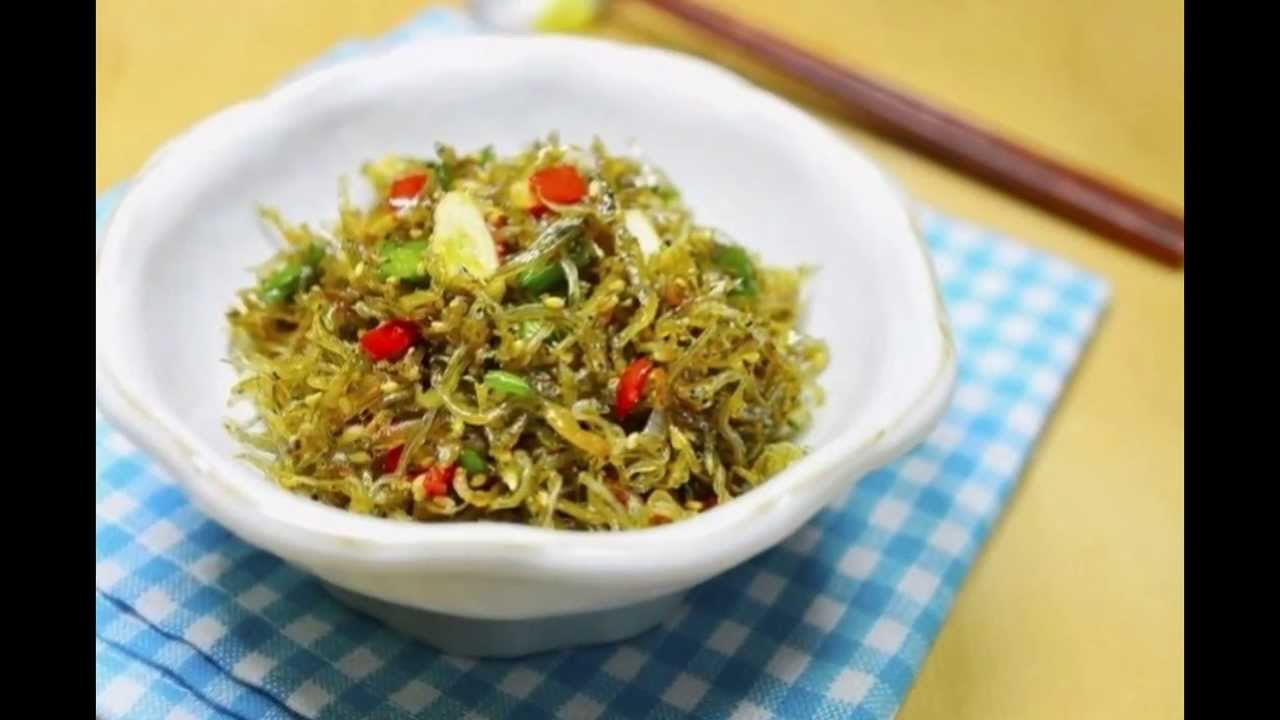myeolchibokk-eum: (218, 121, 822, 531)
